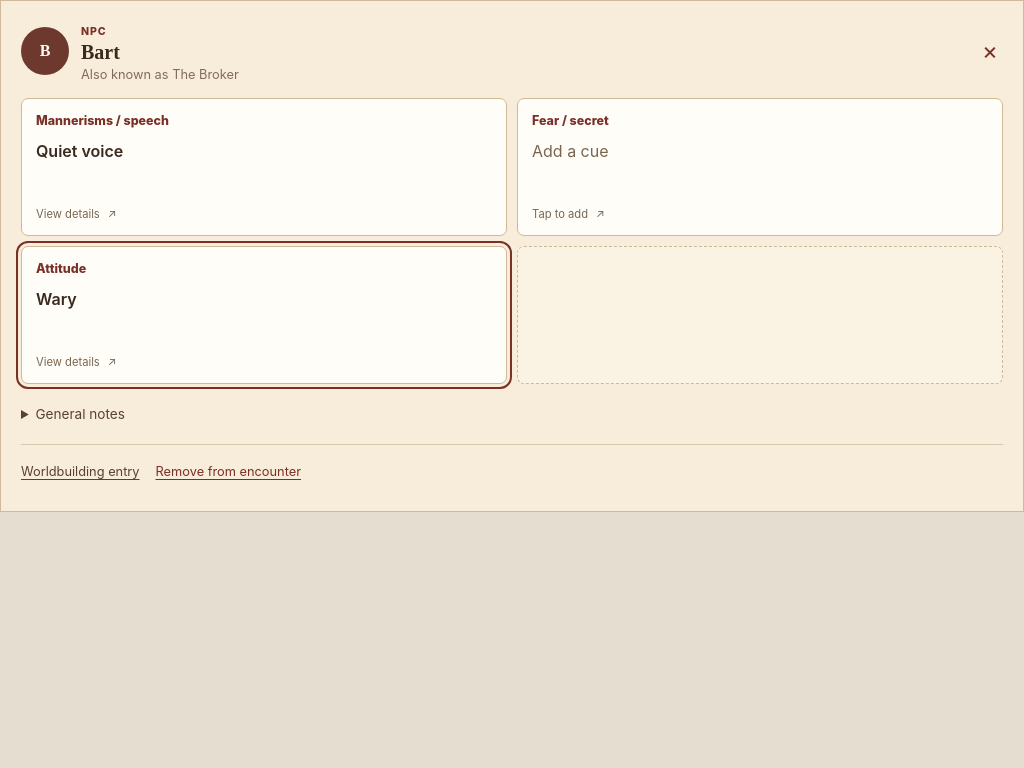
Scenario: NPC at-a-glance overview › saves empty cues to allow clearing and resets the popup when the NPC changes
Click the button "Attitude Wary View details ↗" at x=61, y=268, box [21,246,507,384]
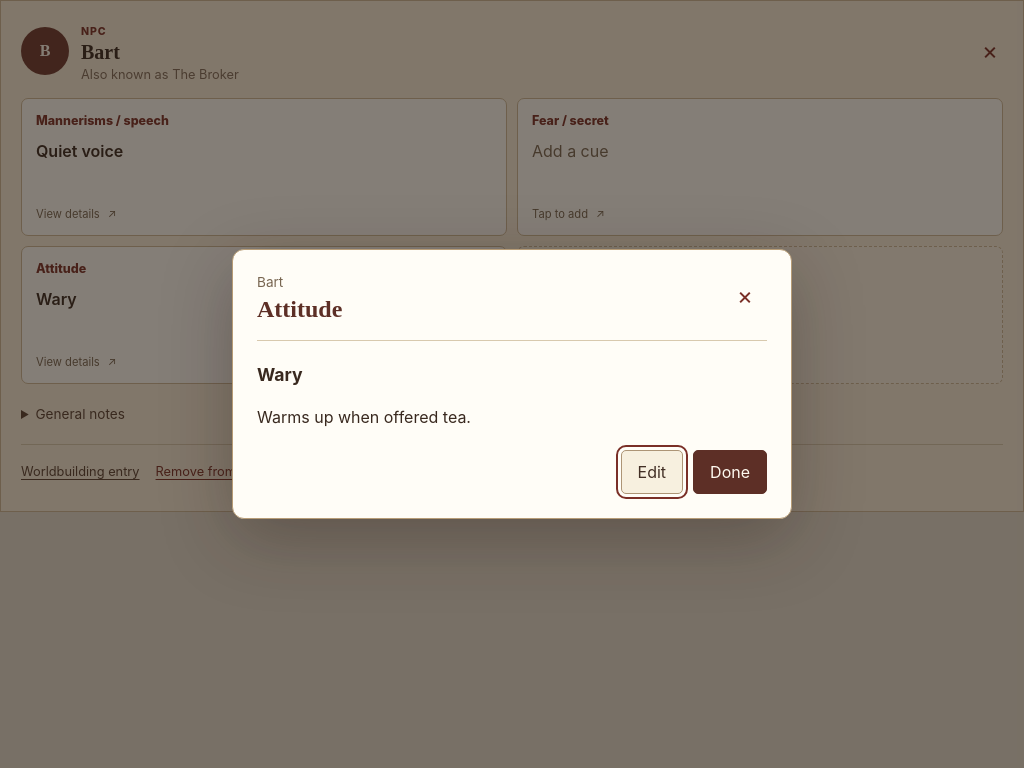
Click the button "Edit" at x=652, y=472, box [620,450,683,494]
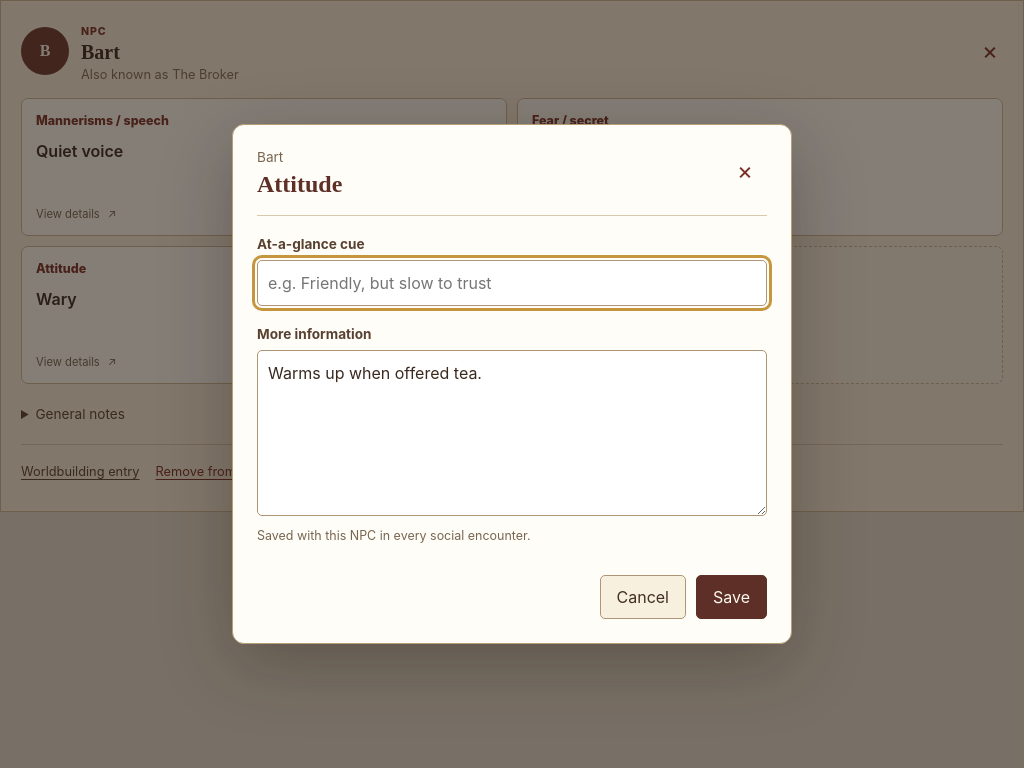
Clear the field labelled "At-a-glance cue" at x=512, y=283, box [257,260,767,306]
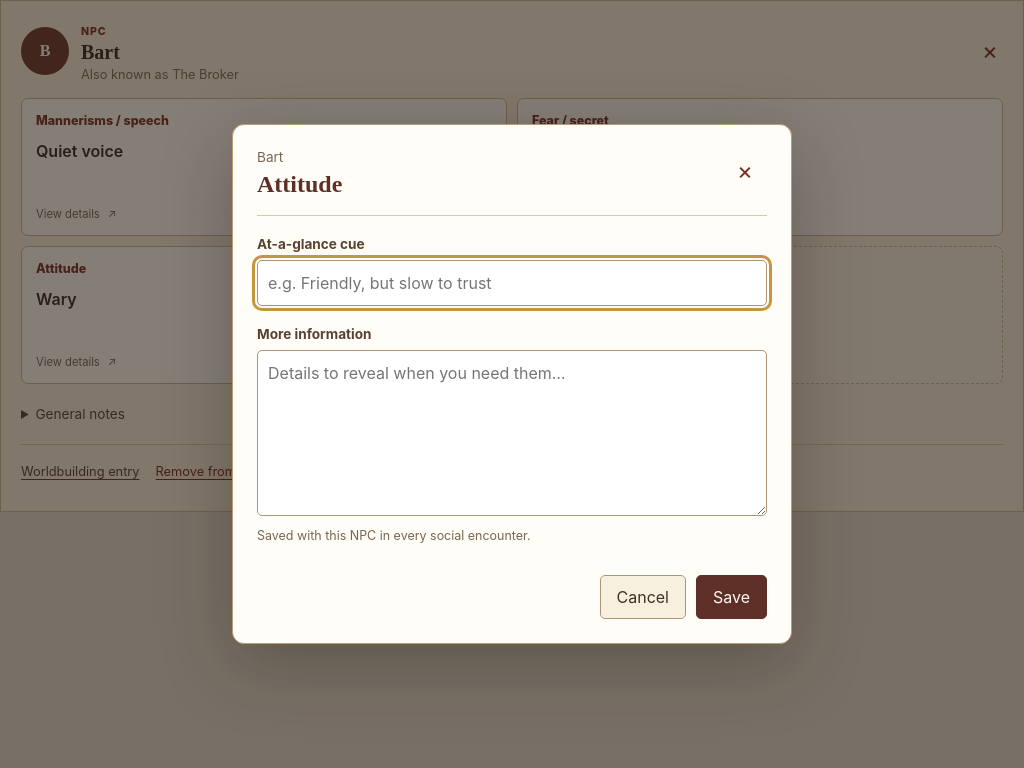
Clear the text box labelled "More information" at x=512, y=433, box [257,350,767,516]
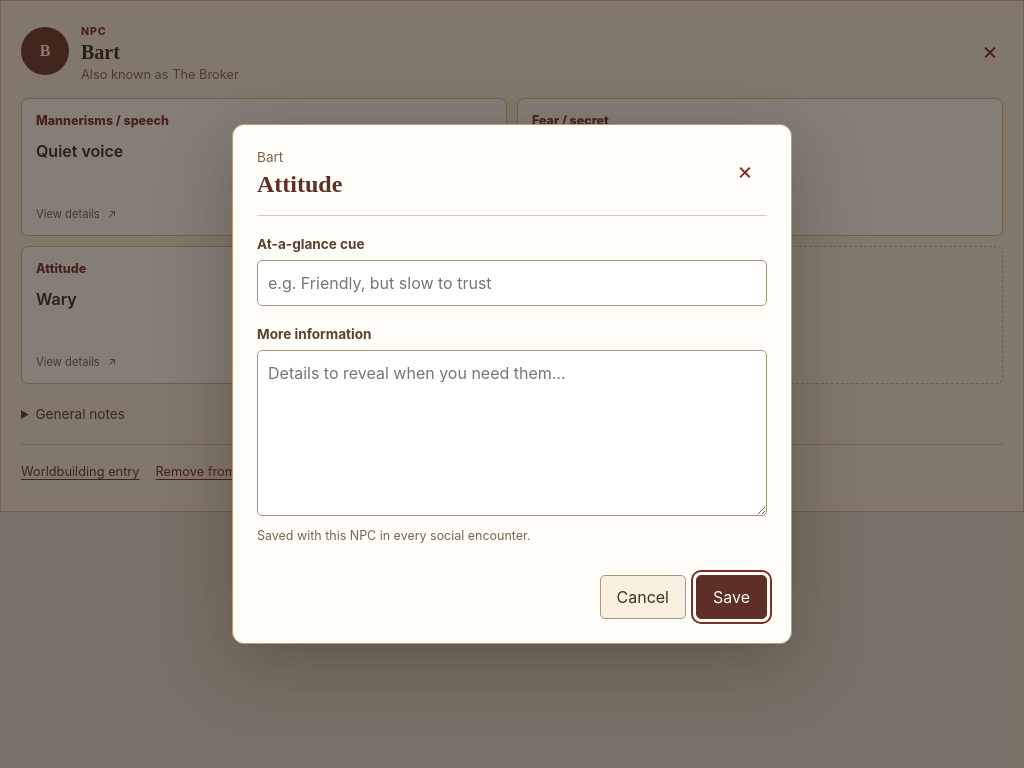
Click the button "Save" at x=732, y=597, box [696,575,767,619]
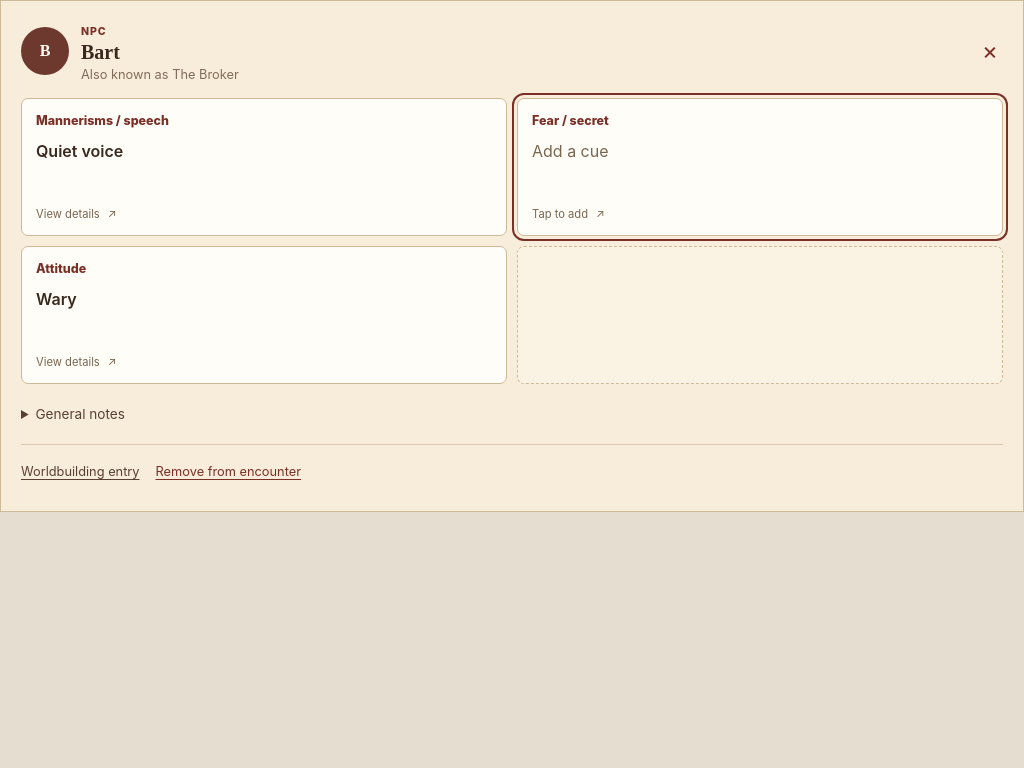
Click the button "Fear / secret Add a cue Tap to add ↗" at x=570, y=120, box [517,98,1003,236]
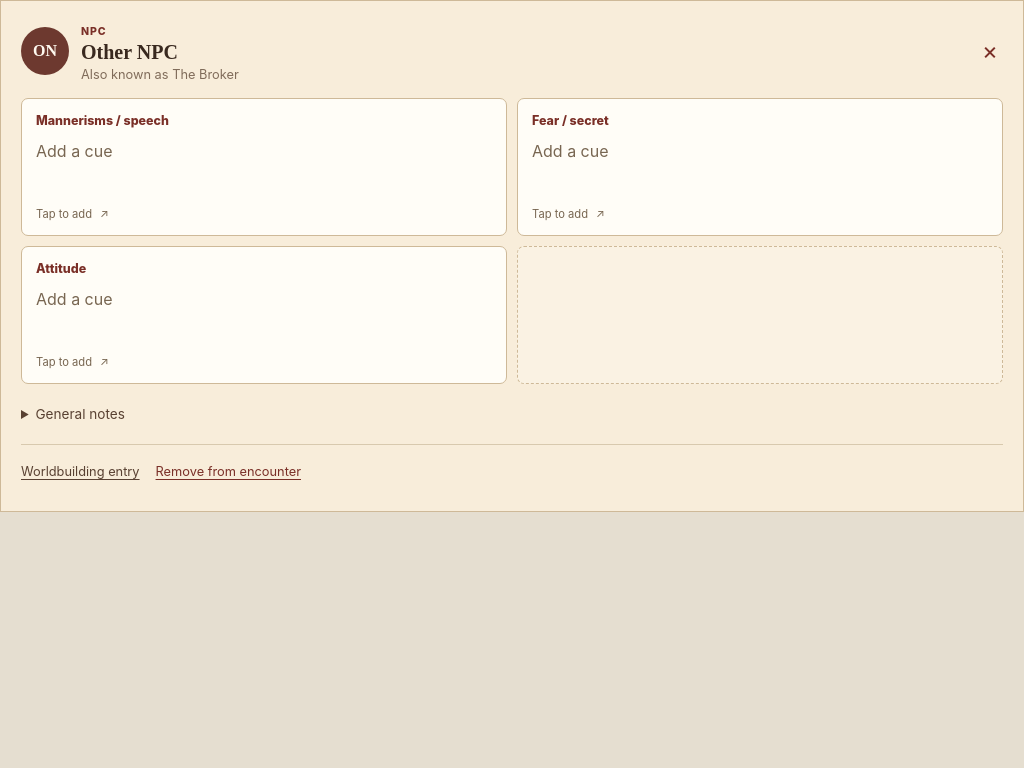
Expected: the text "Quiet voice" is gone
